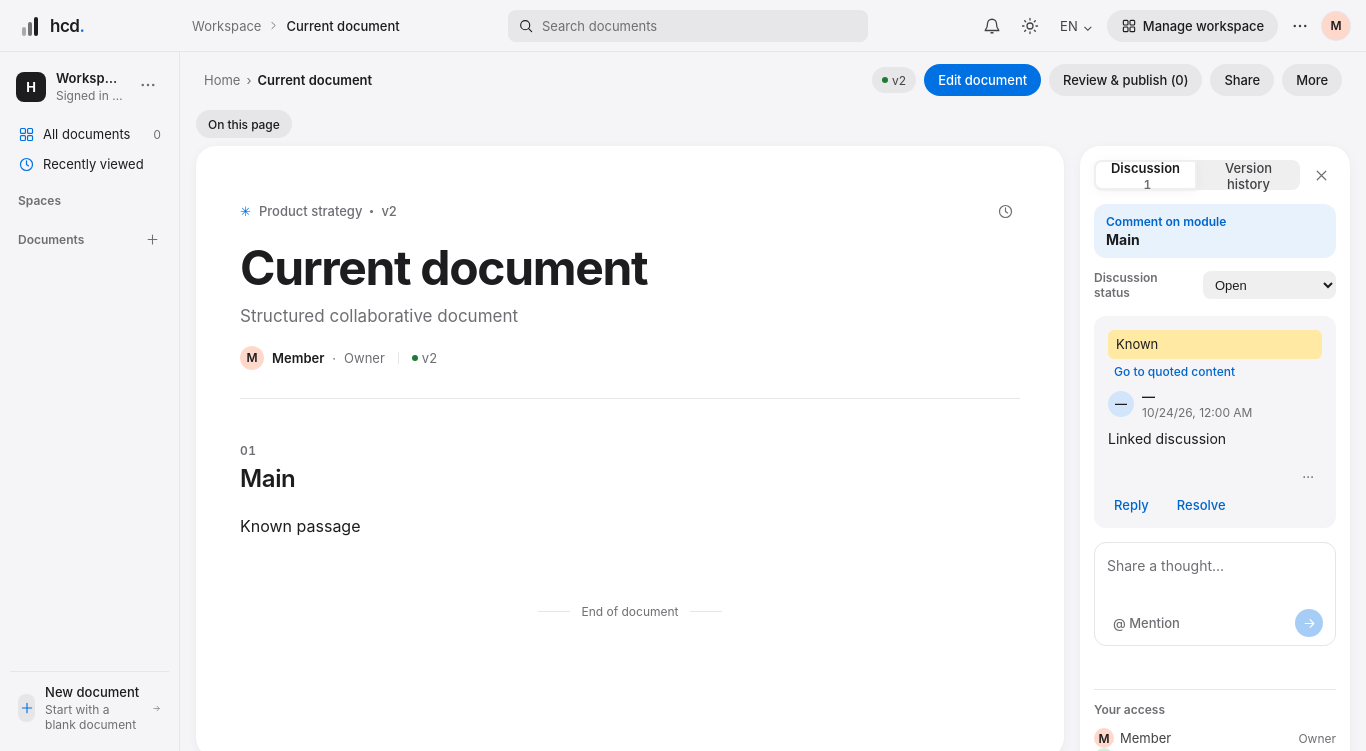
Test case: C2 cancels a pending review read when navigating to personal settings
The image size is (1366, 751).
Click the button "Review & publish (0)": (1126, 80) [1049, 64, 1202, 96]
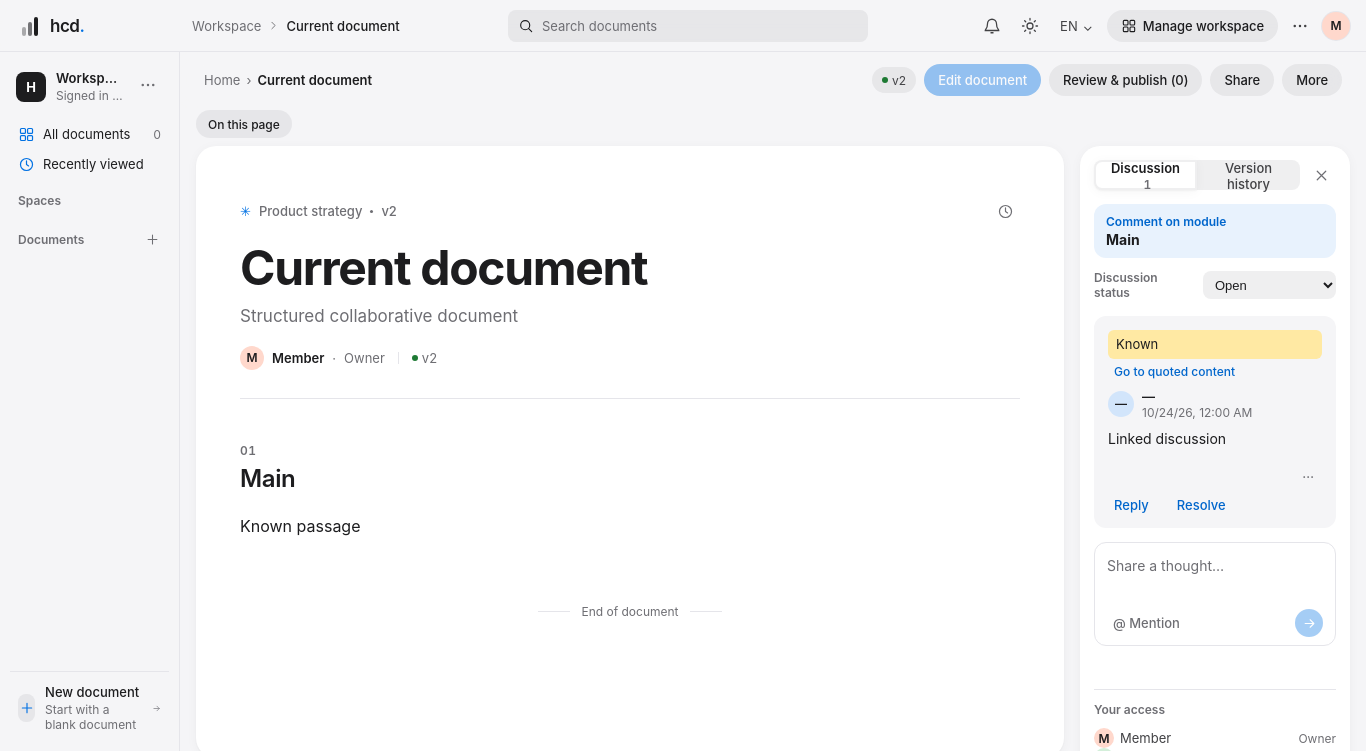
Click the button named "Settings": (1300, 26) [1284, 10, 1316, 42]
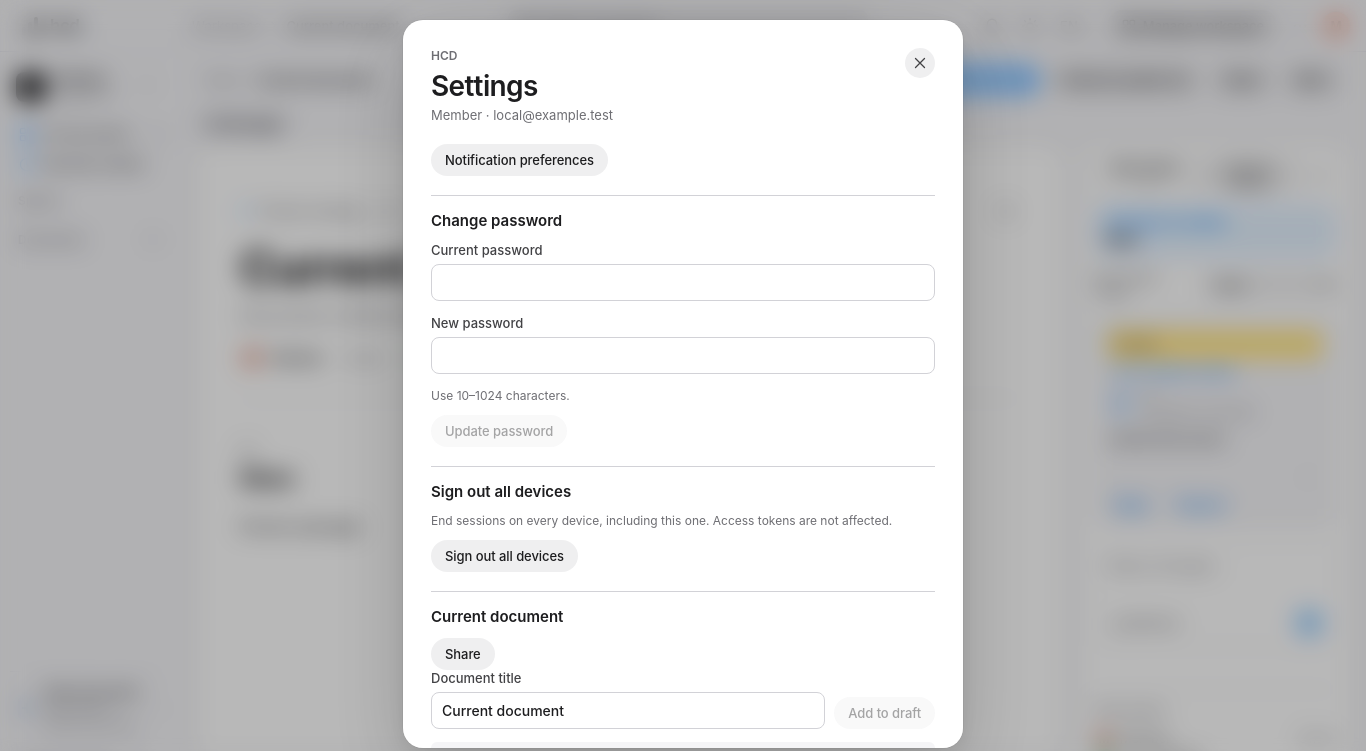
Expected: the dialog with class "settings-modal" is shown, [403, 20, 963, 748]
